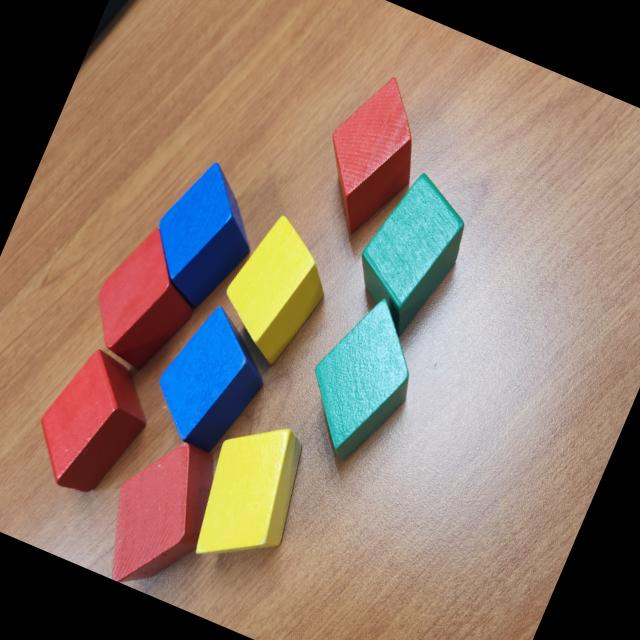blue: (138, 294, 284, 464), (132, 150, 278, 320)
green: (285, 282, 440, 475), (336, 162, 482, 348)
red: (299, 62, 445, 248), (86, 426, 232, 604), (20, 337, 166, 508), (74, 215, 218, 382)
yellow: (177, 407, 324, 584), (205, 206, 346, 374)
